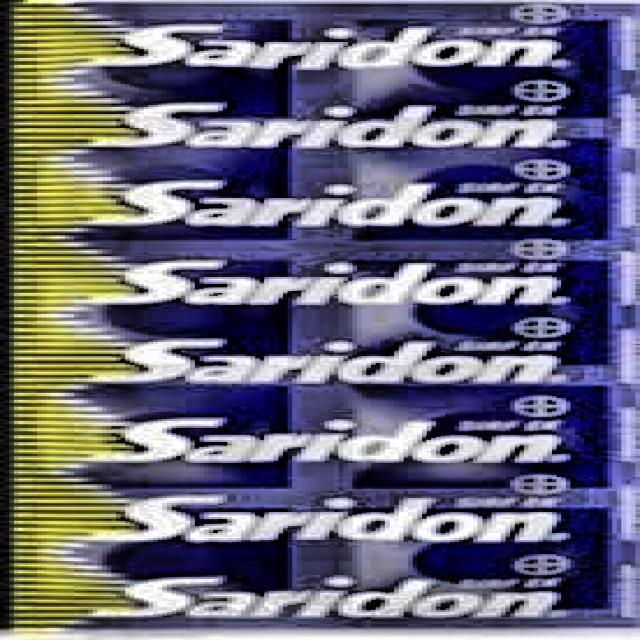Saridon: (10, 0, 639, 639)
